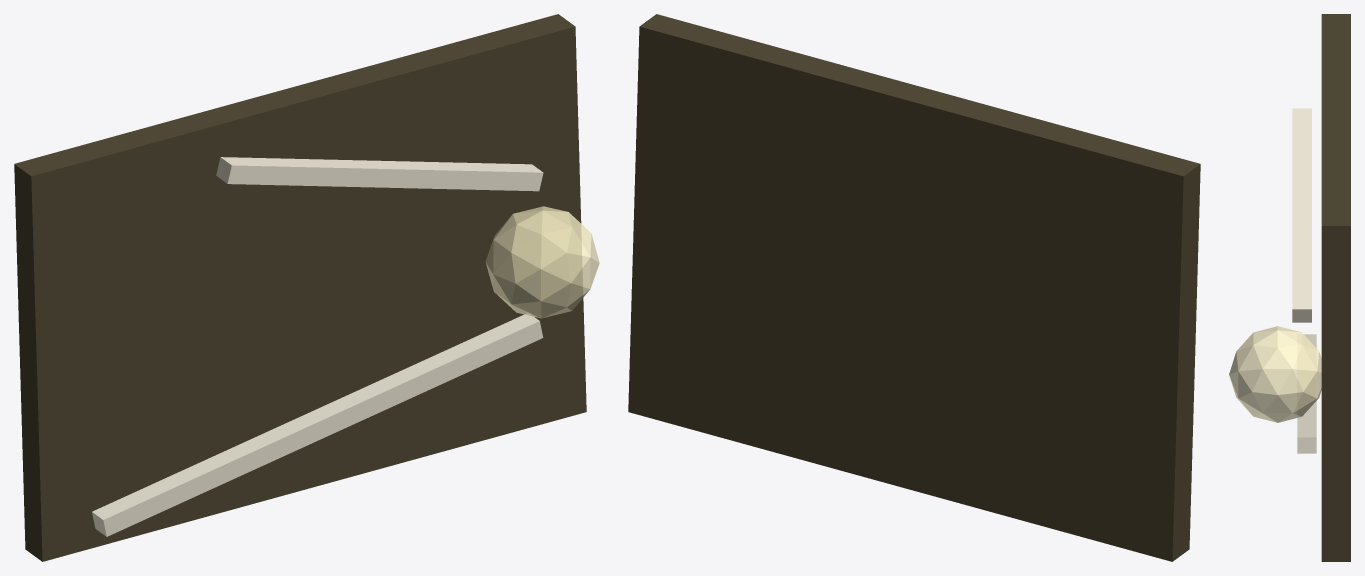
Rendered from 02_world_prop_polish.glb.
The picture shows the model from 3 angles, left to right: view 1: azimuth 30°, elevation 25°; view 2: azimuth 150°, elevation 25°; view 3: azimuth 270°, elevation 25°; orthographic projection. The views are drawn at different scales.
Parts seen in each view (by area): view 1: object_overlay_plate, edge_wear_a, glow_socket, edge_wear_b; view 2: object_overlay_plate; view 3: object_overlay_plate, glow_socket, edge_wear_b, edge_wear_a.
Part boxes in pixels (bbox=[...]): object_overlay_plate: bbox=[14, 14, 586, 561]; edge_wear_a: bbox=[92, 313, 543, 536]; glow_socket: bbox=[485, 206, 599, 318]; edge_wear_b: bbox=[216, 157, 543, 191]; object_overlay_plate: bbox=[628, 14, 1200, 561]; object_overlay_plate: bbox=[1321, 14, 1350, 561]; glow_socket: bbox=[1229, 326, 1321, 422]; edge_wear_b: bbox=[1292, 108, 1311, 322]; edge_wear_a: bbox=[1297, 334, 1316, 453].
Size of the model in its own units: 1.12 by 0.7827 by 0.25.
